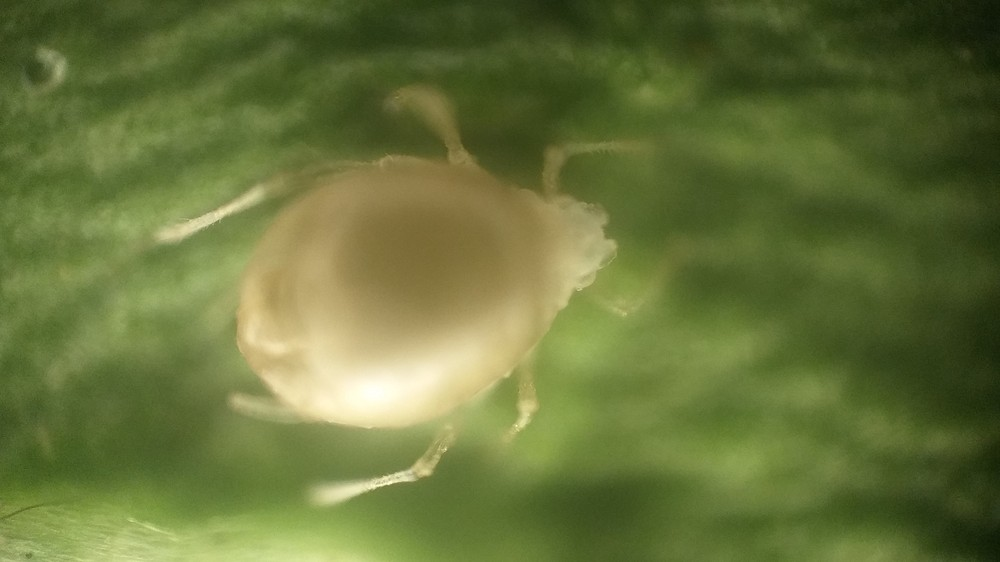Pulgon: (144, 72, 685, 527)
